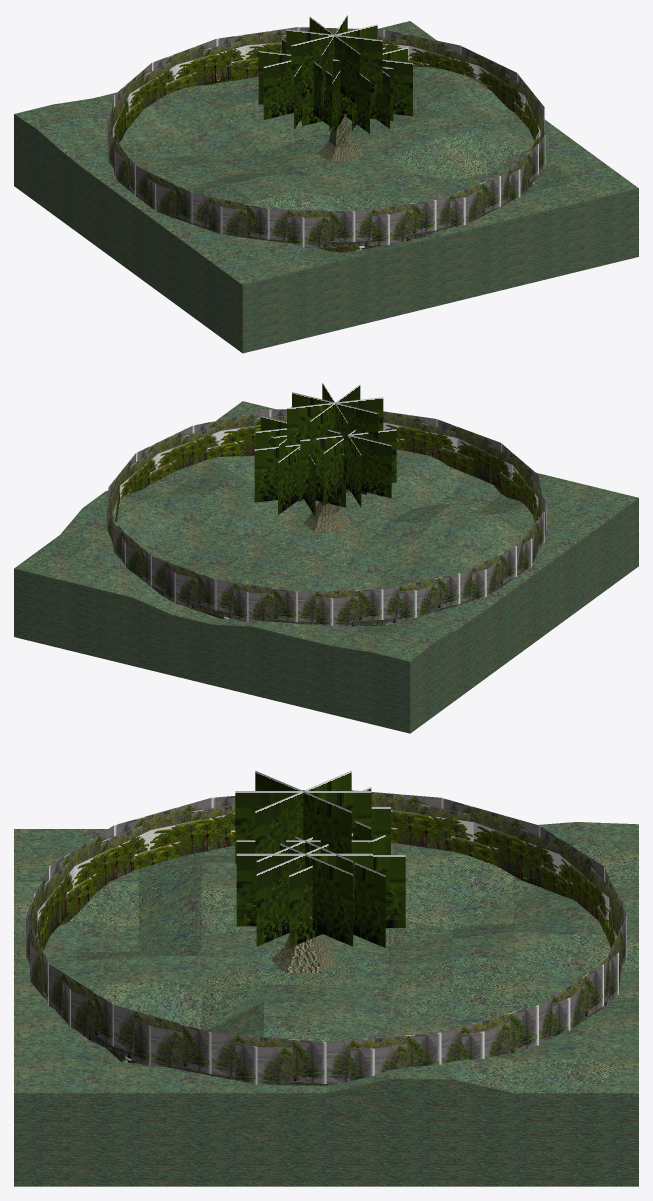
File: fireflyhollow_main.fbx
The picture shows the model from 3 angles, top to bottom: view 1: azimuth 30°, elevation 25°; view 2: azimuth 150°, elevation 25°; view 3: azimuth 270°, elevation 25°; orthographic projection. The views are drawn at different scales.
Visible parts, largest first — view 1: land, bush, forest, forest.001, rainforest, rainforest.001, bark; view 2: land, bush, forest, forest.001, rainforest, rainforest.001, bark; view 3: land, bush, forest, forest.001, rainforest, rainforest.001, bark.
Part boxes in pixels (<box>): land: <box>14,21,638,353</box>; bush: <box>258,15,412,135</box>; forest: <box>108,27,544,241</box>; forest.001: <box>107,35,545,248</box>; rainforest: <box>112,42,540,248</box>; rainforest.001: <box>117,57,536,252</box>; bark: <box>317,114,365,161</box>; land: <box>14,401,638,733</box>; bush: <box>254,383,396,516</box>; forest: <box>108,409,544,622</box>; forest.001: <box>106,415,546,626</box>; rainforest: <box>114,421,538,625</box>; rainforest.001: <box>114,438,535,625</box>; bark: <box>303,489,350,532</box>; land: <box>14,822,638,1186</box>; bush: <box>235,770,405,947</box>; forest: <box>26,790,626,1083</box>; forest.001: <box>30,804,622,1085</box>; rainforest: <box>37,809,614,1048</box>; rainforest.001: <box>38,827,615,1063</box>; bark: <box>271,916,340,972</box>.
Bounding box in the file's own units: 21058 × 9797 × 21058.
5 materials, 5 textured.
